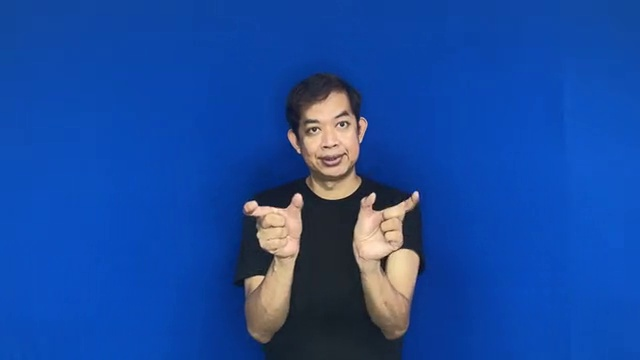crab: (234, 181, 428, 275)
